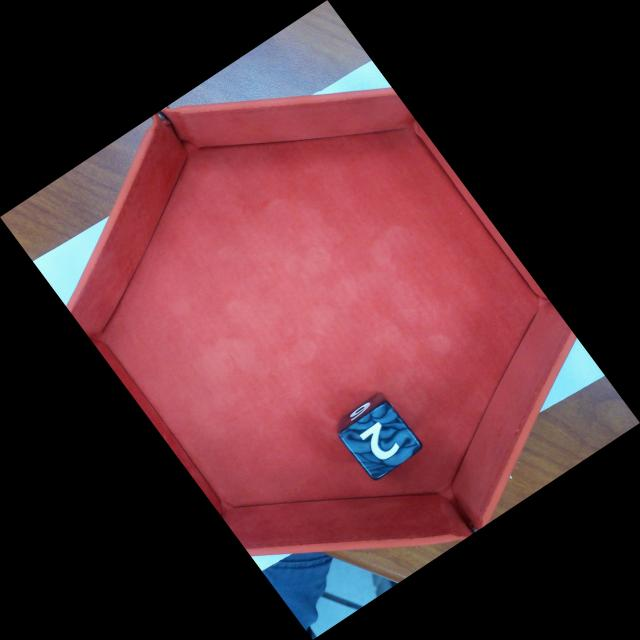dice: (336, 399, 425, 483)
